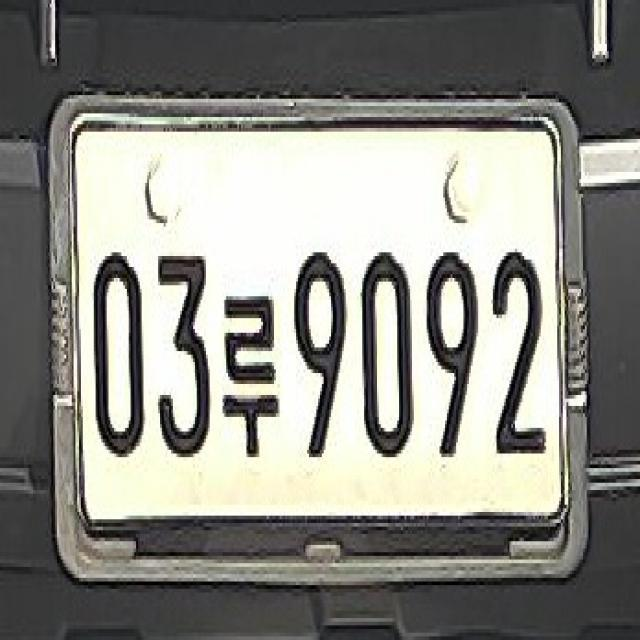0: (358, 236, 416, 484), (94, 220, 144, 484)
2: (487, 241, 548, 488)
3: (153, 218, 212, 498)
9: (290, 222, 352, 492), (426, 235, 478, 473)
license_plate: (42, 85, 590, 600)
lu: (214, 260, 288, 498)
